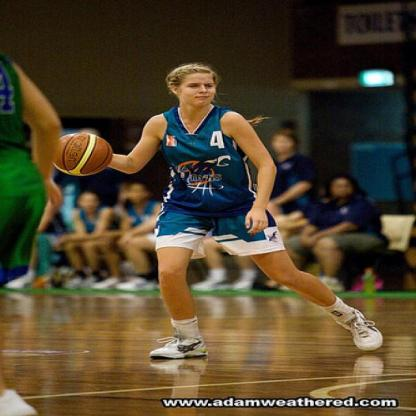basketball: (52, 132, 114, 178)
